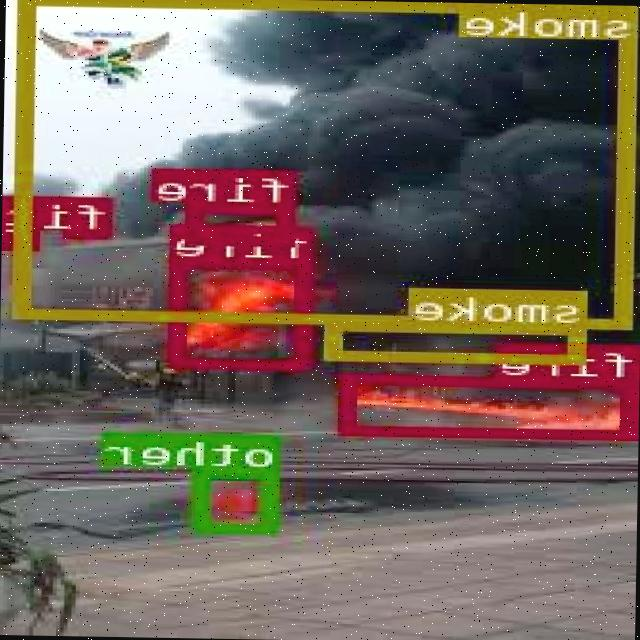fire: (345, 373, 639, 438), (172, 258, 314, 368), (191, 200, 296, 245), (67, 194, 115, 238), (8, 212, 44, 248)
smoke: (17, 0, 639, 325), (330, 319, 589, 363)
